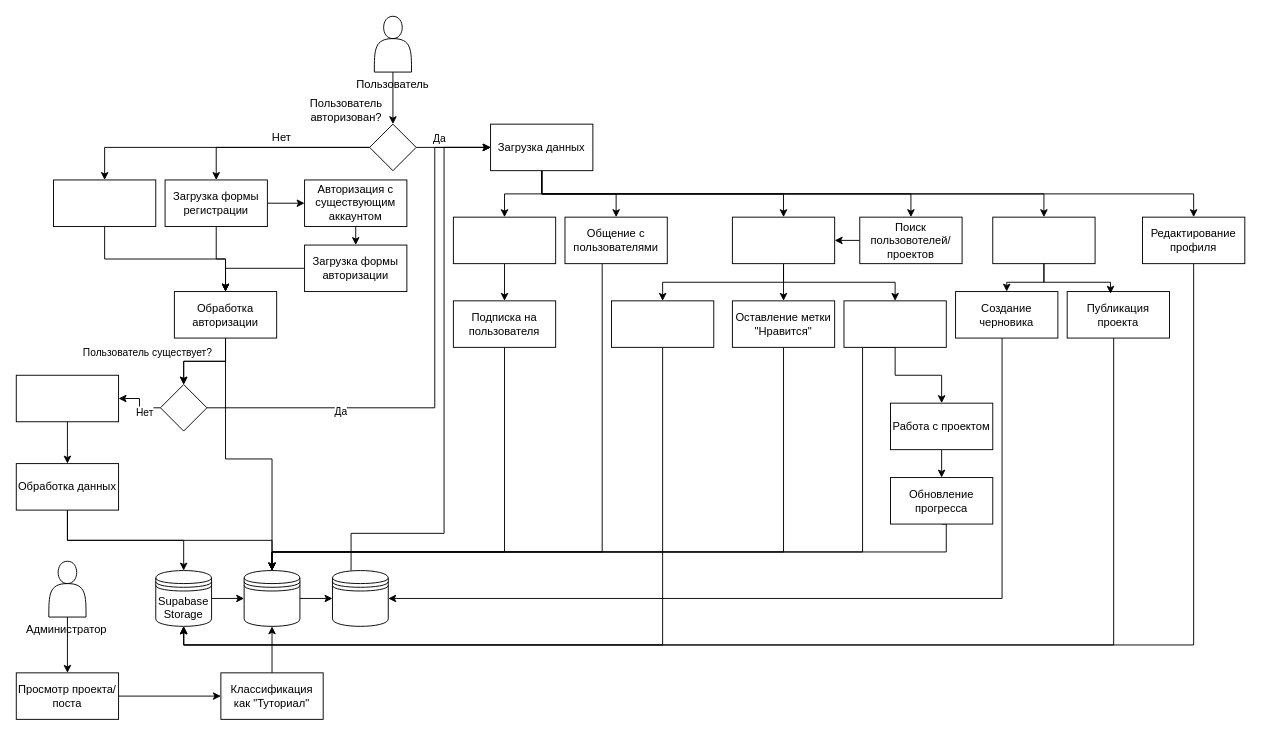
Some shapes in this 1261 by 736 pixel diagram are drawn without their labels. The centre of each missing label's shape, as x and y in pixels:
Firebase: point 271,598
Supporting database: point 360,598
Авторизация с помощью Google: point 104,202
Загрузка формы ввода данных пользователя: point 67,398
Оставление комментария: point 662,323
Пометка проекта как "В работе": point 894,323
Просмотр проектов/постов: point 783,240
Просмотр профилей пользователей: point 504,240
Создание проекта/поста: point 1043,240
